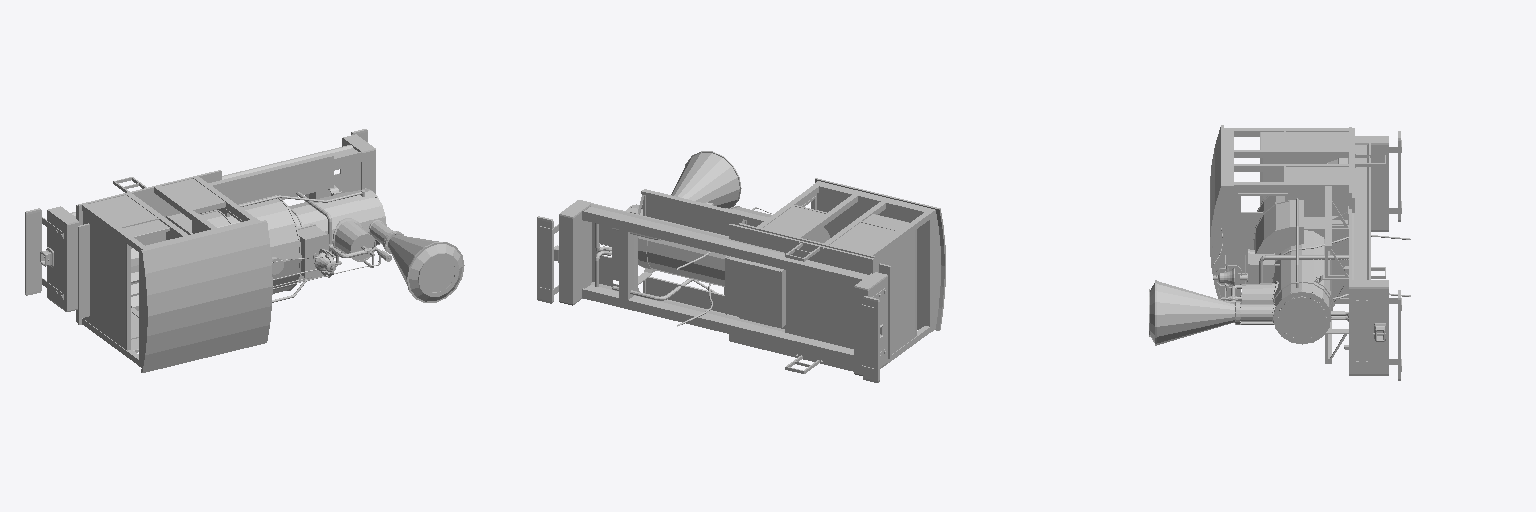
File: body.obj
3 views of the same model, side by side, from view 1: azimuth 30°, elevation 25°; view 2: azimuth 150°, elevation 25°; view 3: azimuth 270°, elevation 25° (orthographic).
Parts seen in each view (by area): view 1: Cube.226_Cube.254, Cube.241_Cube.275, Cube.223_Cube.251, Cylinder.025_Cylinder.022, Cube.268_Cube.317, Cube.229_Cube.257, Tube.015_Tube.017, Cylinder.001, Cube.267_Cube.316, Cube_Cube.001, Cube.234_Cube.268, Cube.388_Cube.454 (+10 smaller); view 2: Cube.222_Cube.250, Cube.227_Cube.255, Cube.002_Cube.248, Cube.001_Cube.002, Cube.223_Cube.251, Cylinder.374_Cylinder.438, Cube.220_Cube.246, Cube.241_Cube.275, Tube.015_Tube.017, Cube.229_Cube.257, Cylinder.001, Cube.268_Cube.317 (+7 smaller); view 3: Tube.015_Tube.017, Cube.229_Cube.257, Cube.220_Cube.246, Cube.238_Cube.272, Cube.002_Cube.248, Cube.227_Cube.255, Cylinder.001, Cube.268_Cube.317, Tube.054_Tube.058, Cylinder.025_Cylinder.022, Cylinder, Cube.226_Cube.254 (+9 smaller).
Boxes of the visible parts, x1=… form: Cube.226_Cube.254: x1=141, y1=220, x2=272, y2=372; Cube.241_Cube.275: x1=83, y1=212, x2=130, y2=350; Cube.223_Cube.251: x1=208, y1=154, x2=333, y2=281; Cylinder.025_Cylinder.022: x1=200, y1=198, x2=299, y2=293; Cube.268_Cube.317: x1=47, y1=206, x2=78, y2=311; Cube.229_Cube.257: x1=82, y1=176, x2=255, y2=365; Tube.015_Tube.017: x1=370, y1=221, x2=462, y2=301; Cylinder.001: x1=288, y1=192, x2=367, y2=254; Cube.267_Cube.316: x1=25, y1=208, x2=41, y2=295; Cube_Cube.001: x1=78, y1=172, x2=214, y2=324; Cube.234_Cube.268: x1=89, y1=195, x2=156, y2=226; Cube.388_Cube.454: x1=78, y1=223, x2=89, y2=318; Cube.222_Cube.250: x1=729, y1=224, x2=873, y2=371; Cube.227_Cube.255: x1=813, y1=181, x2=940, y2=332; Cube.002_Cube.248: x1=582, y1=203, x2=867, y2=285; Cube.001_Cube.002: x1=582, y1=282, x2=853, y2=363; Cube.223_Cube.251: x1=641, y1=189, x2=765, y2=315; Cylinder.374_Cylinder.438: x1=727, y1=256, x2=781, y2=325; Cube.220_Cube.246: x1=559, y1=200, x2=591, y2=305; Cube.241_Cube.275: x1=876, y1=229, x2=916, y2=354; Tube.015_Tube.017: x1=671, y1=152, x2=739, y2=208; Cube.229_Cube.257: x1=756, y1=185, x2=929, y2=367; Cylinder.001: x1=638, y1=236, x2=726, y2=286; Cube.268_Cube.317: x1=854, y1=272, x2=887, y2=375; Tube.015_Tube.017: x1=1150, y1=281, x2=1273, y2=344; Cube.229_Cube.257: x1=1233, y1=128, x2=1349, y2=303; Cube.220_Cube.246: x1=1349, y1=280, x2=1388, y2=375; Cube.238_Cube.272: x1=1234, y1=191, x2=1348, y2=297; Cube.002_Cube.248: x1=1349, y1=143, x2=1370, y2=279; Cube.227_Cube.255: x1=1213, y1=128, x2=1233, y2=300; Cylinder.001: x1=1272, y1=230, x2=1331, y2=310; Cube.268_Cube.317: x1=1355, y1=136, x2=1388, y2=231; Tube.054_Tube.058: x1=1279, y1=297, x2=1325, y2=339; Cylinder.025_Cylinder.022: x1=1254, y1=196, x2=1301, y2=253; Cylinder: x1=1273, y1=282, x2=1330, y2=344; Cube.226_Cube.254: x1=1210, y1=125, x2=1223, y2=298.
Bounding box in the file's own units: 5.87 × 2 × 3.9.